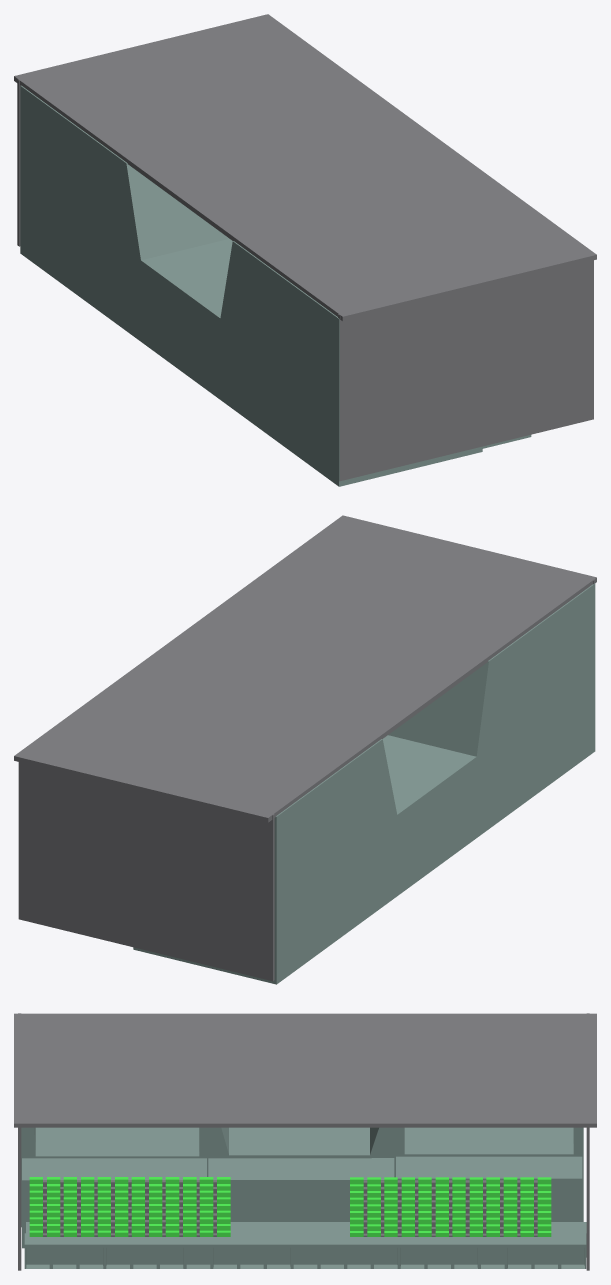
Rendered from big tribune.fbx.
3 renders of one model, top to bottom at view 1: azimuth 30°, elevation 25°; view 2: azimuth 150°, elevation 25°; view 3: azimuth 270°, elevation 25°, orthographic. The views are drawn at different scales.
Parts seen in each view (by area): view 1: Cube.050, Cube.051, Cube.048, Cube.049; view 2: Cube.050, Cube.051, Cube.049; view 3: Cube.050, Cube.051, Cube.003, Cube.047, Cube.046, Cube.042, Cube.017, Cube.021, Cube, Cube.019, Cube.023, Cube.024 (+18 smaller).
Boxes of the visible parts, left/top/right/bottom form: Cube.050: left=14, top=14, right=596, bottom=321; Cube.051: left=20, top=85, right=531, bottom=486; Cube.048: left=338, top=260, right=593, bottom=481; Cube.049: left=17, top=79, right=20, bottom=246; Cube.050: left=14, top=515, right=596, bottom=822; Cube.051: left=133, top=583, right=595, bottom=984; Cube.049: left=18, top=762, right=274, bottom=981; Cube.050: left=14, top=1013, right=596, bottom=1127; Cube.051: left=21, top=1127, right=583, bottom=1248; Cube.003: left=24, top=1233, right=586, bottom=1268; Cube.047: left=26, top=1222, right=586, bottom=1257; Cube.046: left=537, top=1177, right=551, bottom=1236; Cube.042: left=503, top=1177, right=517, bottom=1236; Cube.017: left=165, top=1177, right=179, bottom=1236; Cube.021: left=199, top=1177, right=213, bottom=1236; Cube: left=29, top=1177, right=42, bottom=1236; Cube.019: left=183, top=1177, right=196, bottom=1236; Cube.023: left=217, top=1177, right=230, bottom=1236; Cube.024: left=350, top=1177, right=363, bottom=1236.
Bounding box in the file's own units: 5299 × 3407 × 11824.
